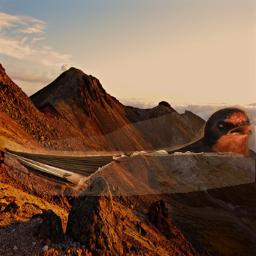Swallow: (4, 105, 255, 196)
